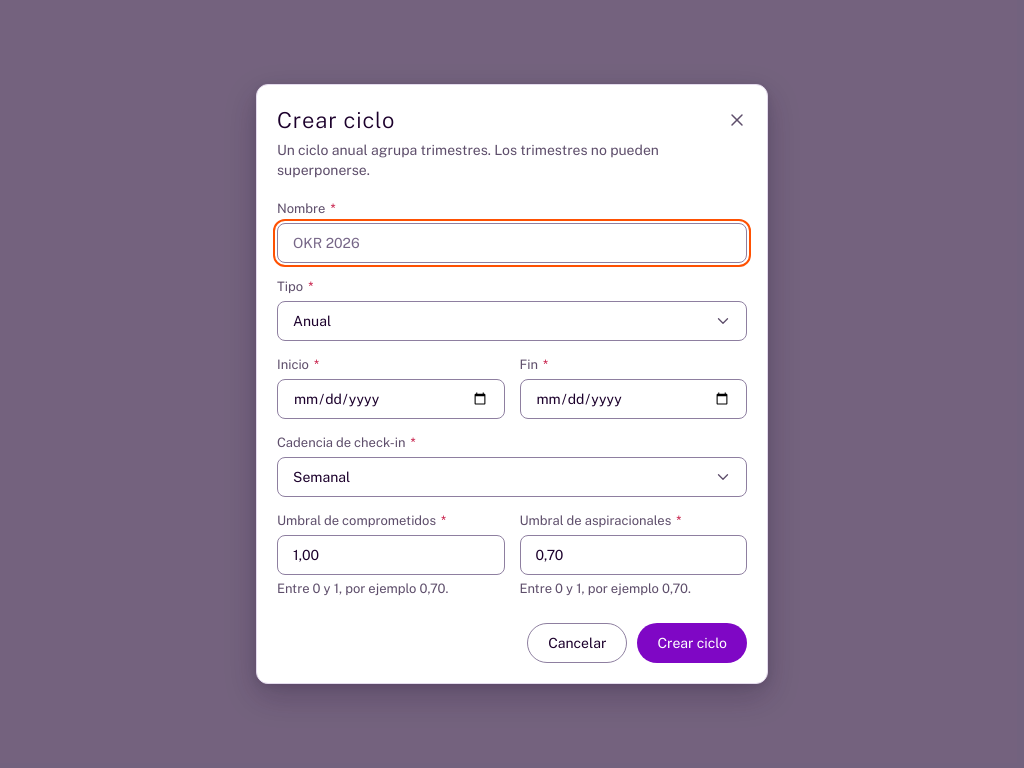
it: CycleFormModal › muestra el error de la API en español y conserva lo tipeado
Type "Q1 repetido" into the field labelled "Nombre*" at (512, 243), box [277, 223, 747, 263]
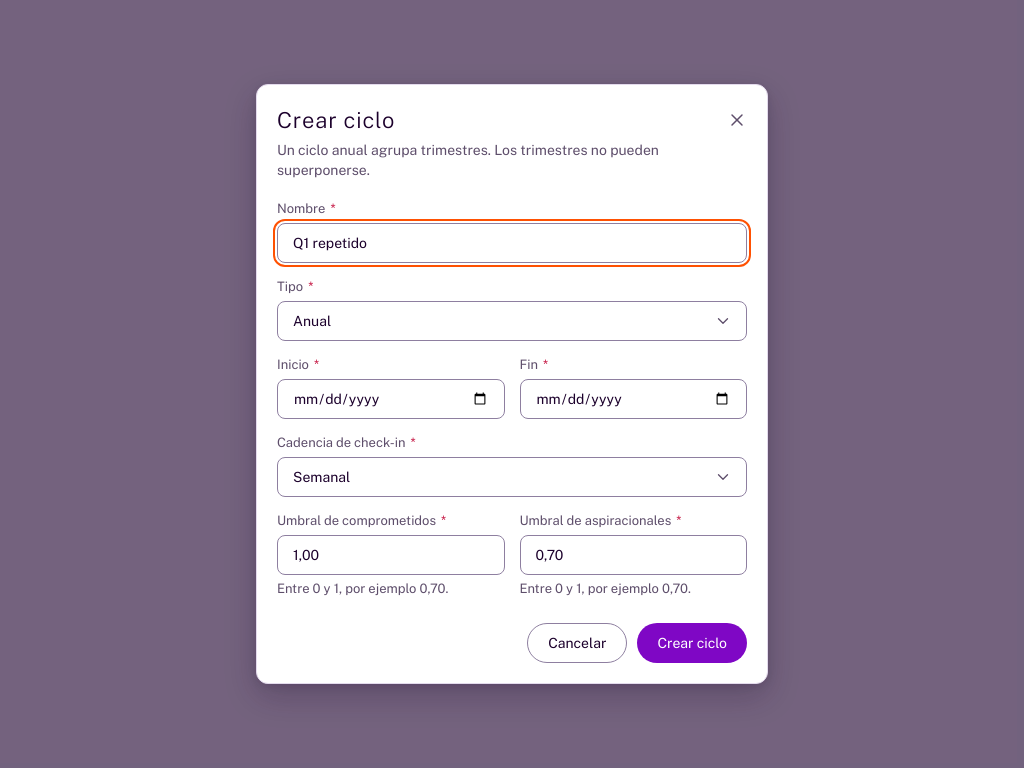
Click the button "Crear ciclo" at (692, 643), box [637, 623, 747, 663]
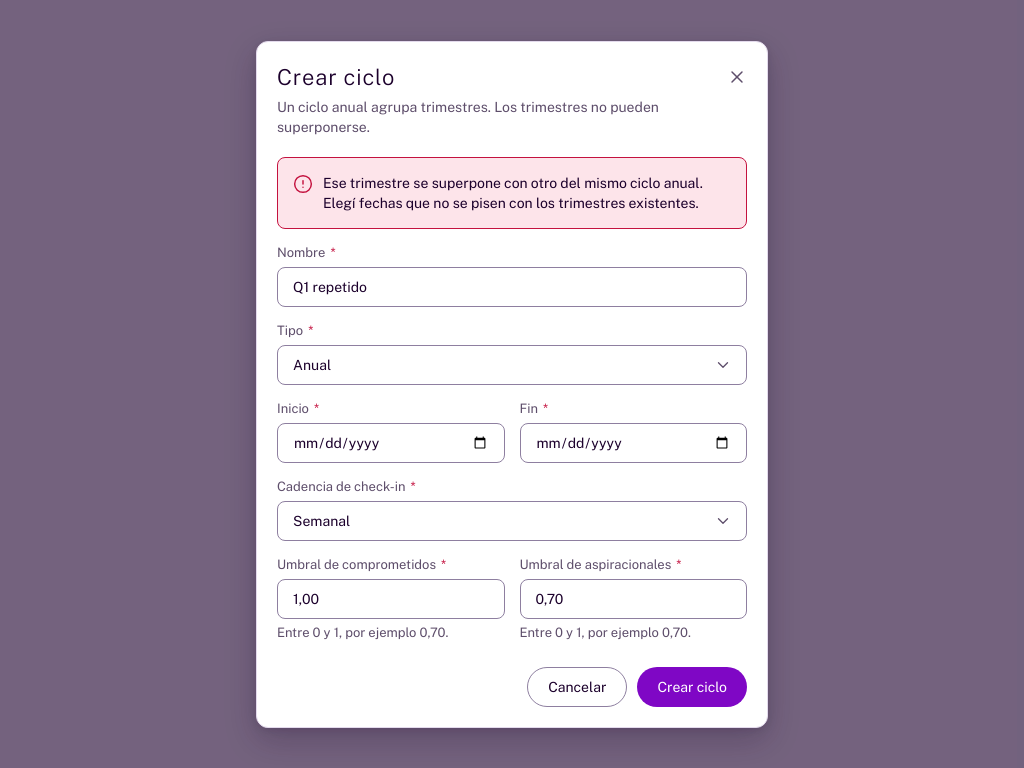
Expected: the message shows "se superpone con otro", [323, 174, 703, 210]
